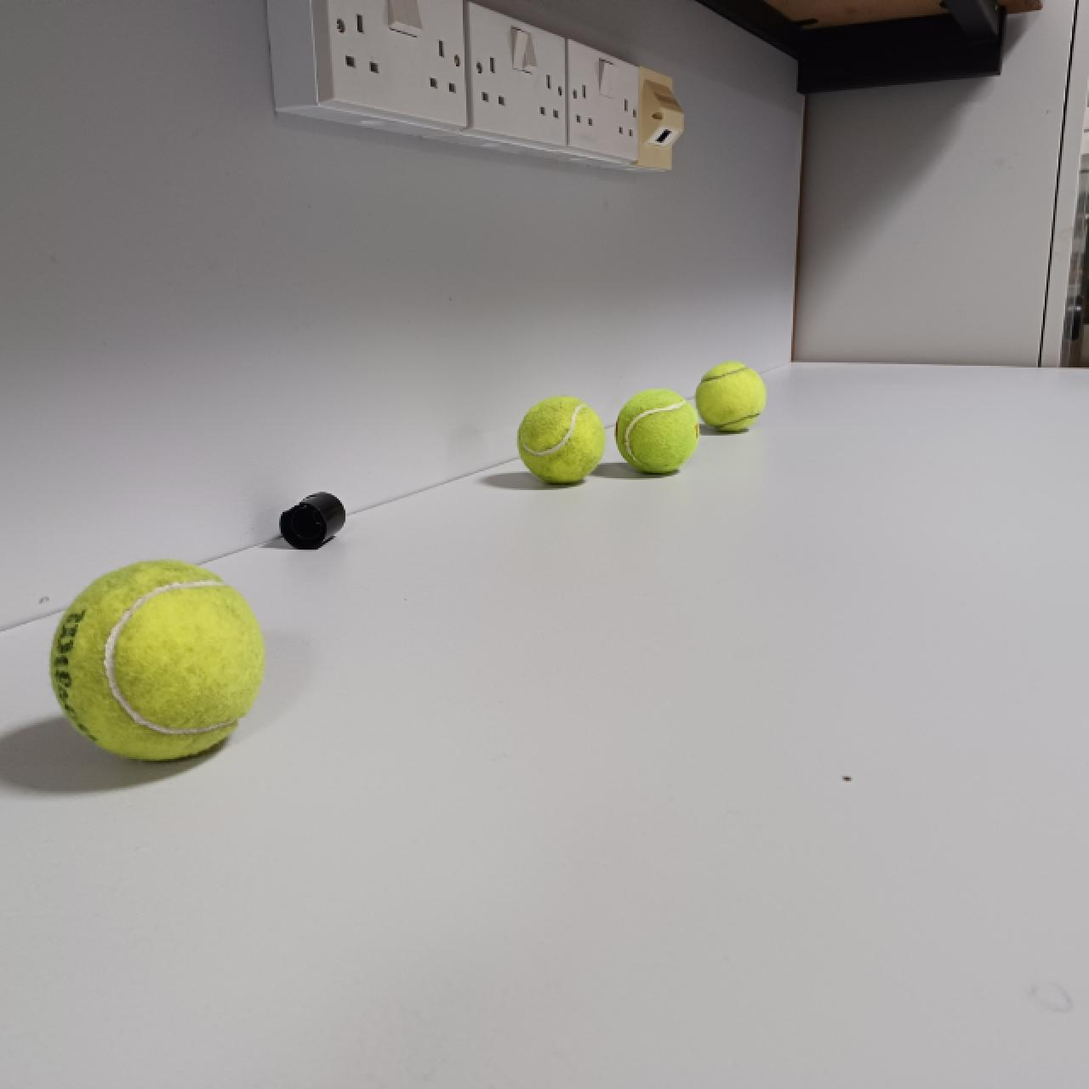tennis-ball: (50, 558, 268, 765), (515, 394, 606, 487), (613, 385, 701, 477), (695, 359, 770, 435)
